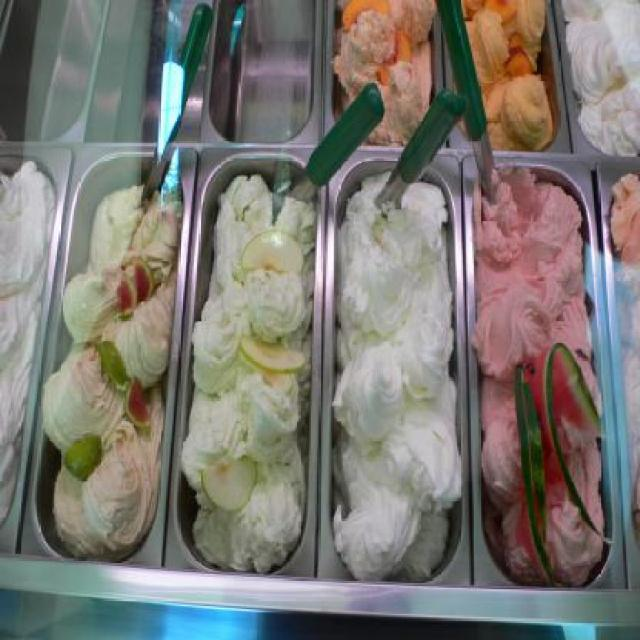Ice cream: (473, 162, 613, 578), (178, 173, 318, 576), (42, 182, 181, 558), (330, 167, 450, 581), (0, 157, 58, 524), (449, 0, 562, 157), (332, 0, 440, 148), (550, 0, 638, 162), (607, 174, 640, 551)
